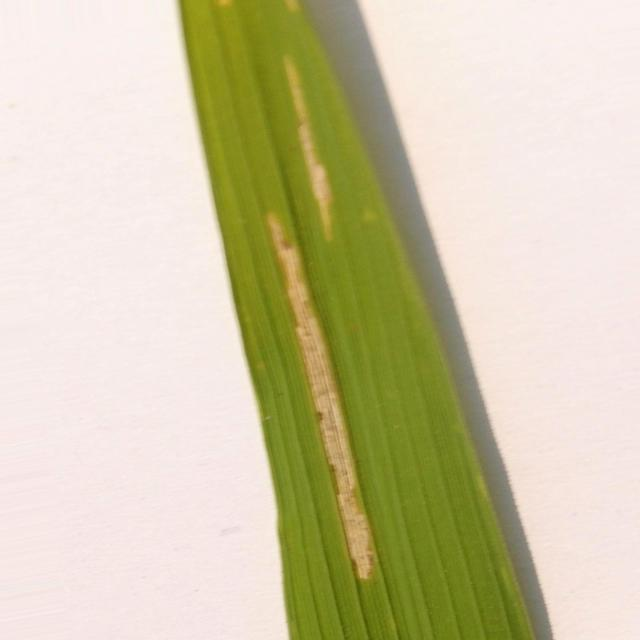Bacterial_Leaf_Blight: (266, 214, 375, 580), (284, 56, 332, 240)
